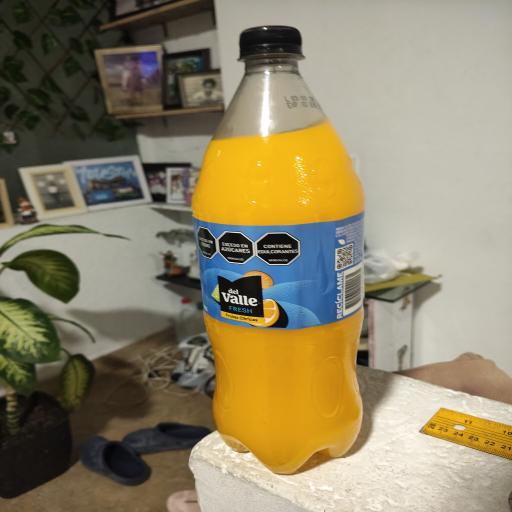Jugo del valle: (193, 27, 363, 473)
